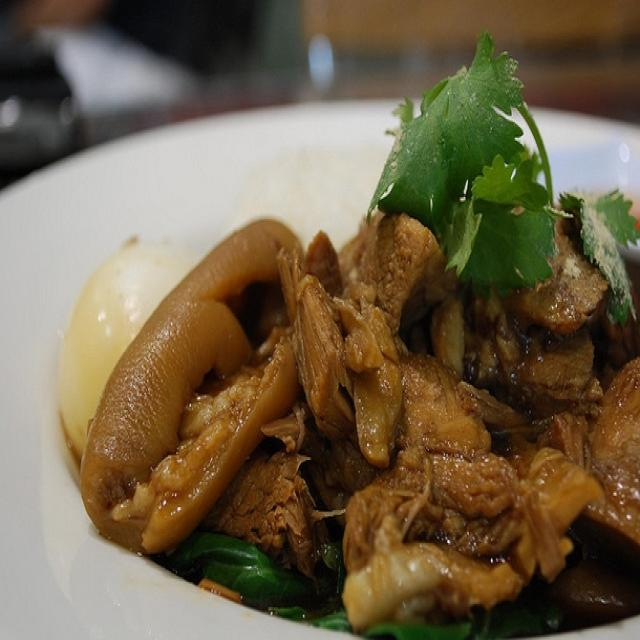猪肉菜式: (91, 175, 632, 618)
